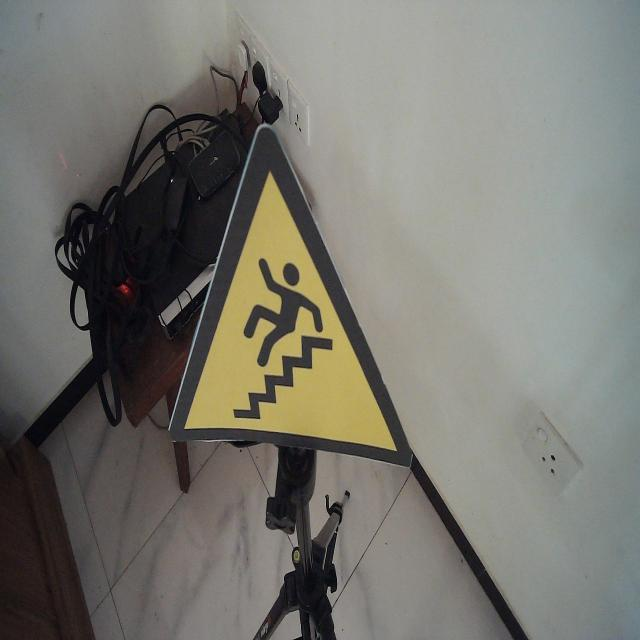stairs: (166, 119, 414, 472)
